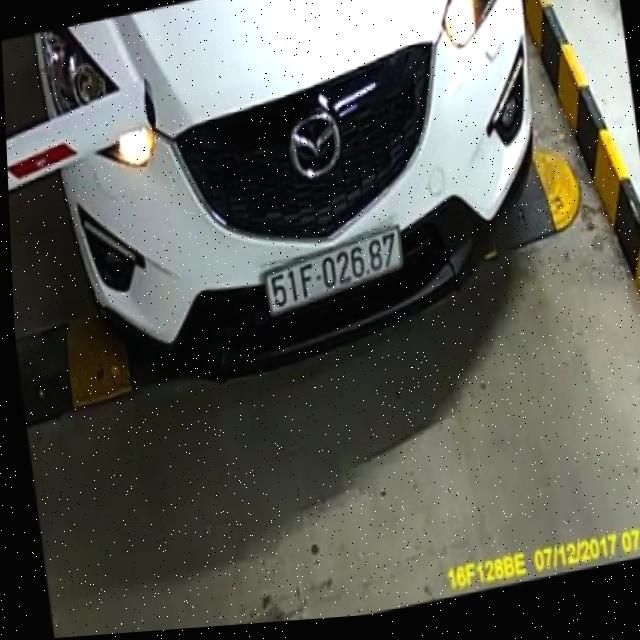car: (25, 0, 563, 410)
plate: (257, 226, 414, 316)
